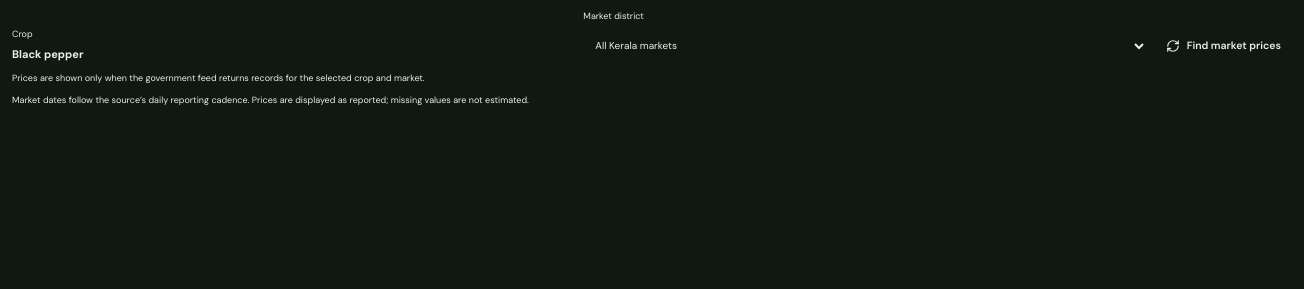
Test: MarketWorkspace › renders source-reported market values with their market date
Click the button "Find market prices" at (1223, 46), box [1155,30,1292,62]
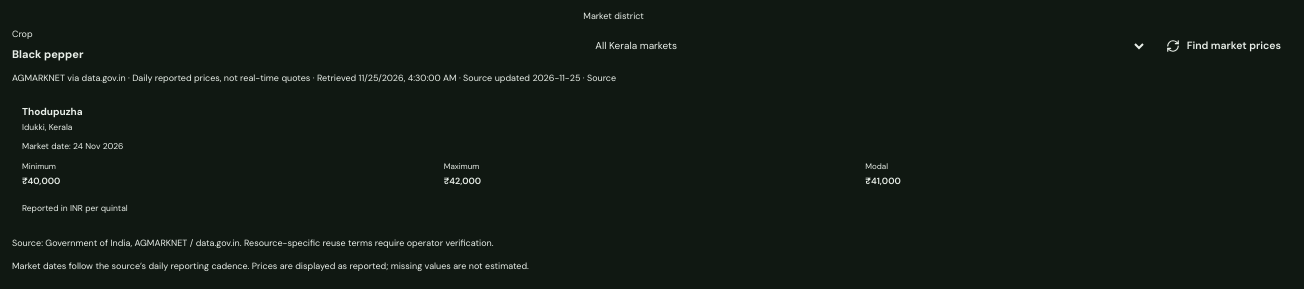
Result: the text "Thodupuzha" is shown at [22,105,83,118]
Result: the text "₹40,000" is shown at [22,174,60,186]
Result: the text "Market date: 24 Nov 2026" is shown at [22,141,123,152]
